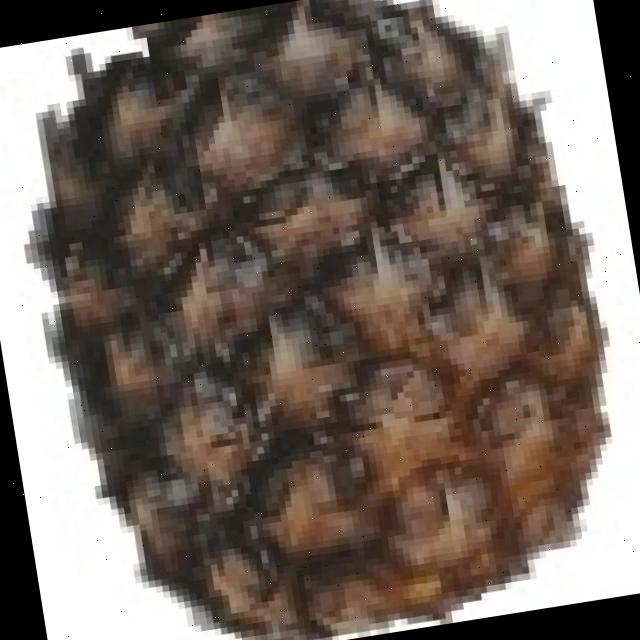pineapple: (30, 0, 607, 640)
